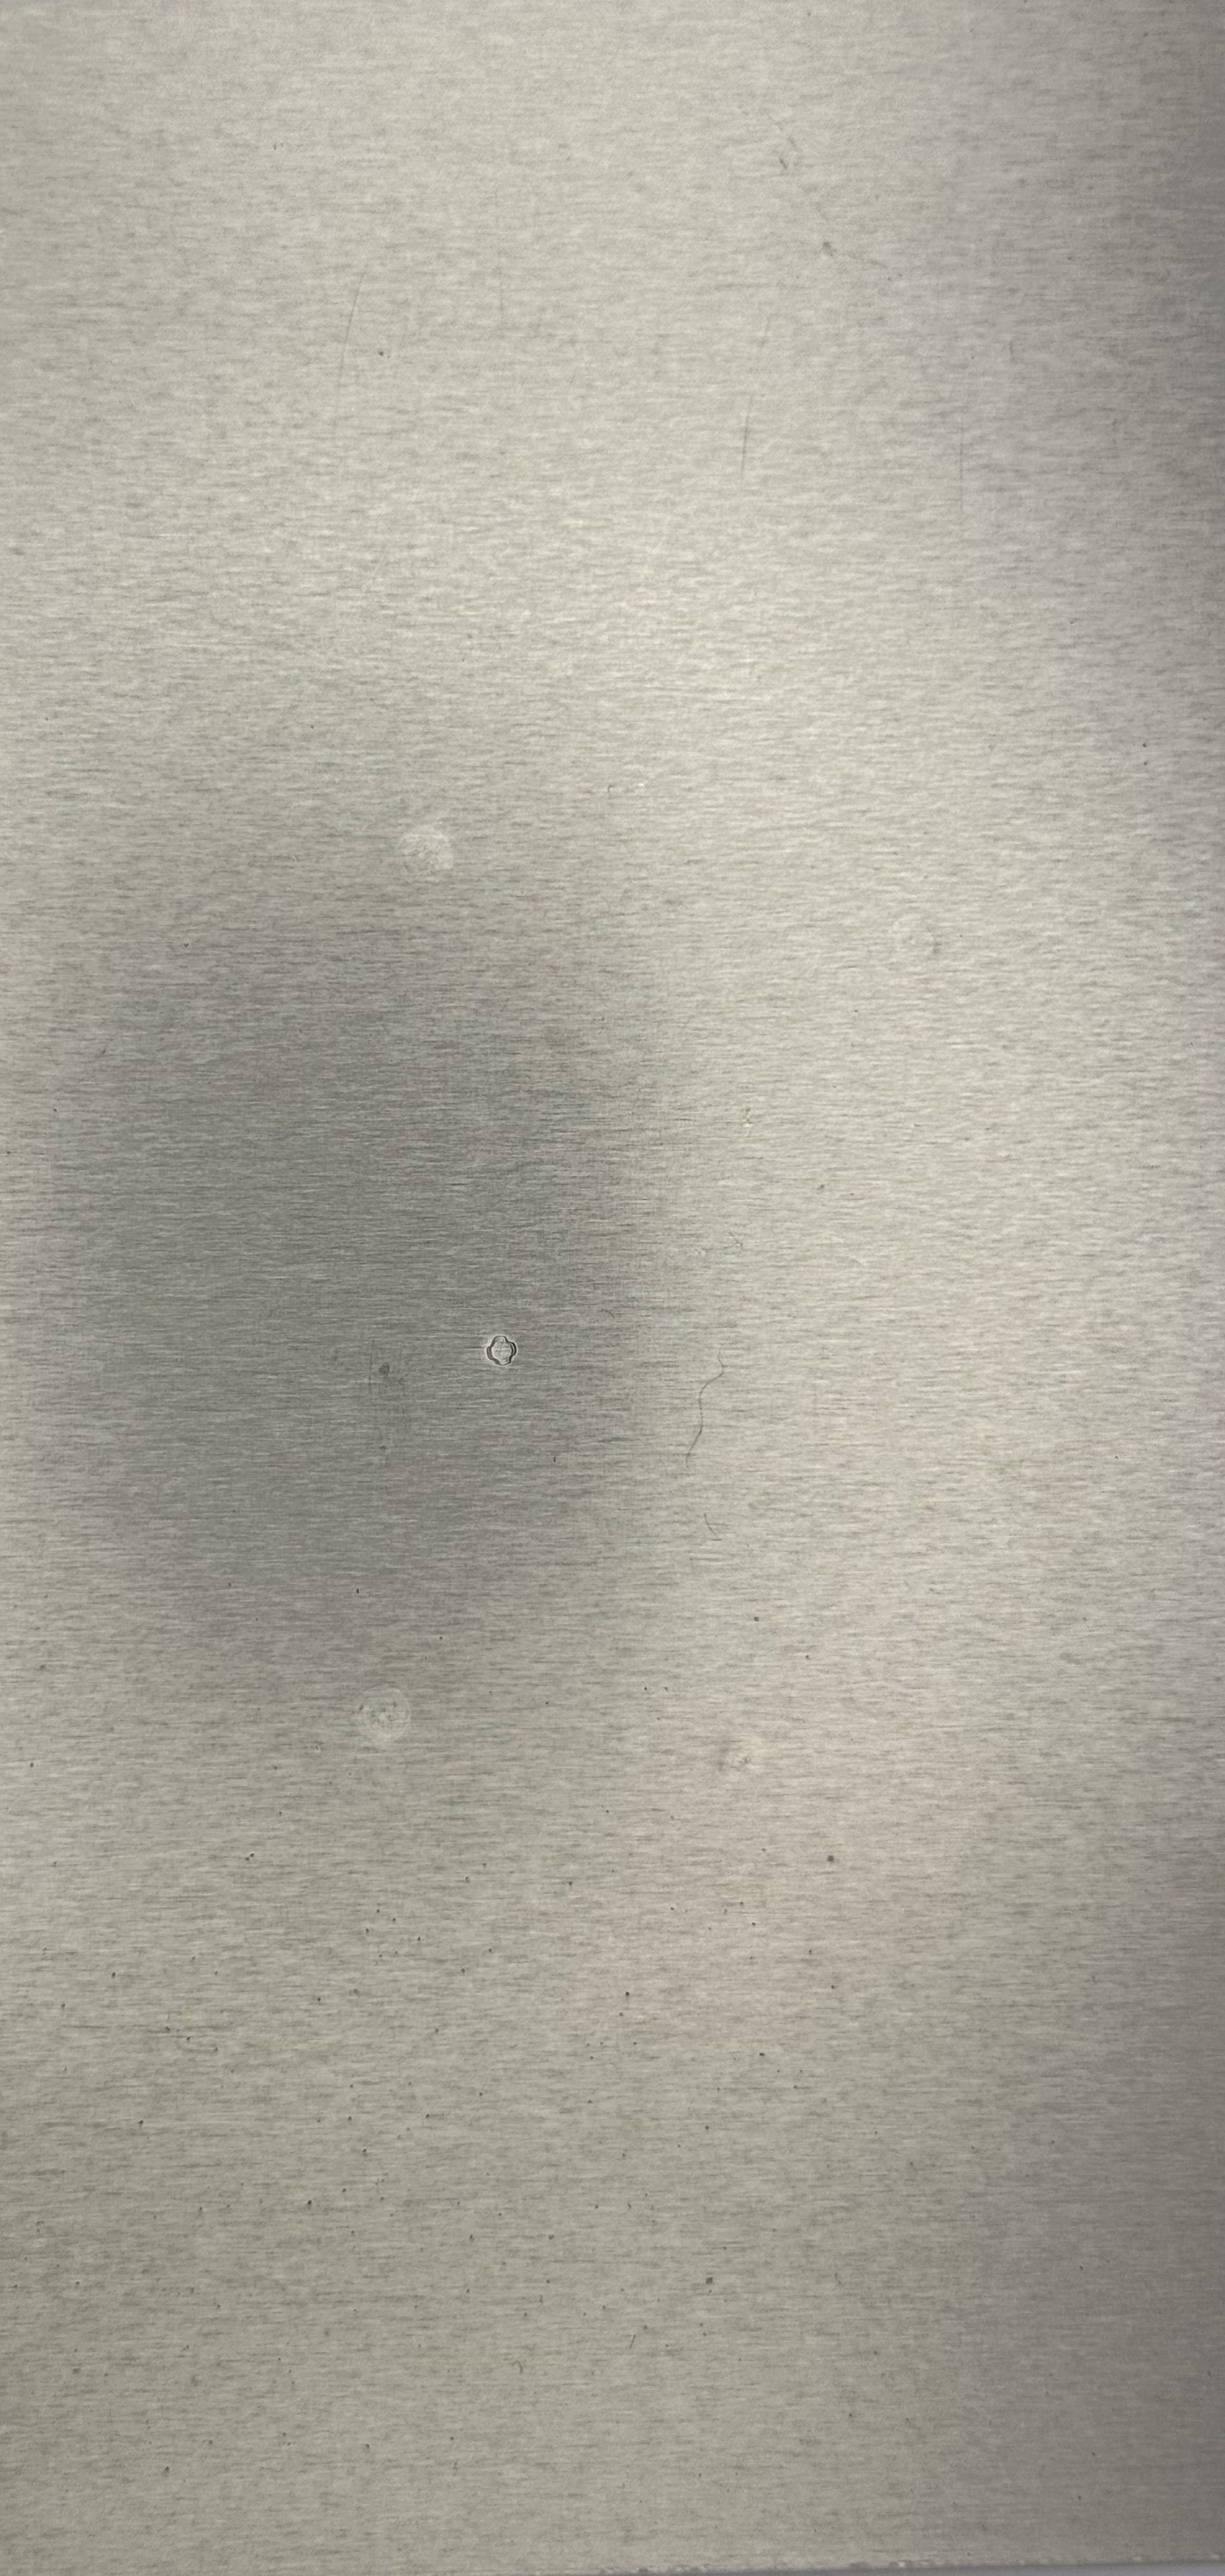Delle: (680, 1707, 806, 1805), (361, 807, 478, 899), (340, 1676, 434, 1761), (867, 899, 967, 974), (458, 1313, 539, 1380)
